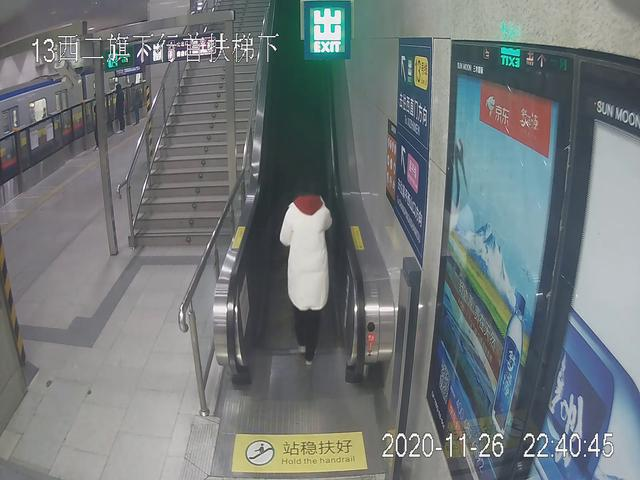person: (275, 173, 337, 371), (114, 82, 129, 135)
